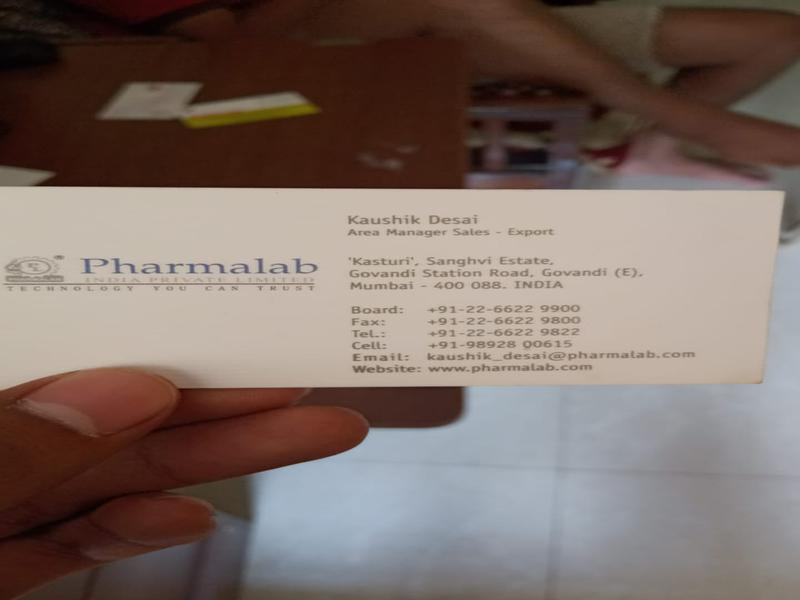card: (2, 187, 775, 384)
